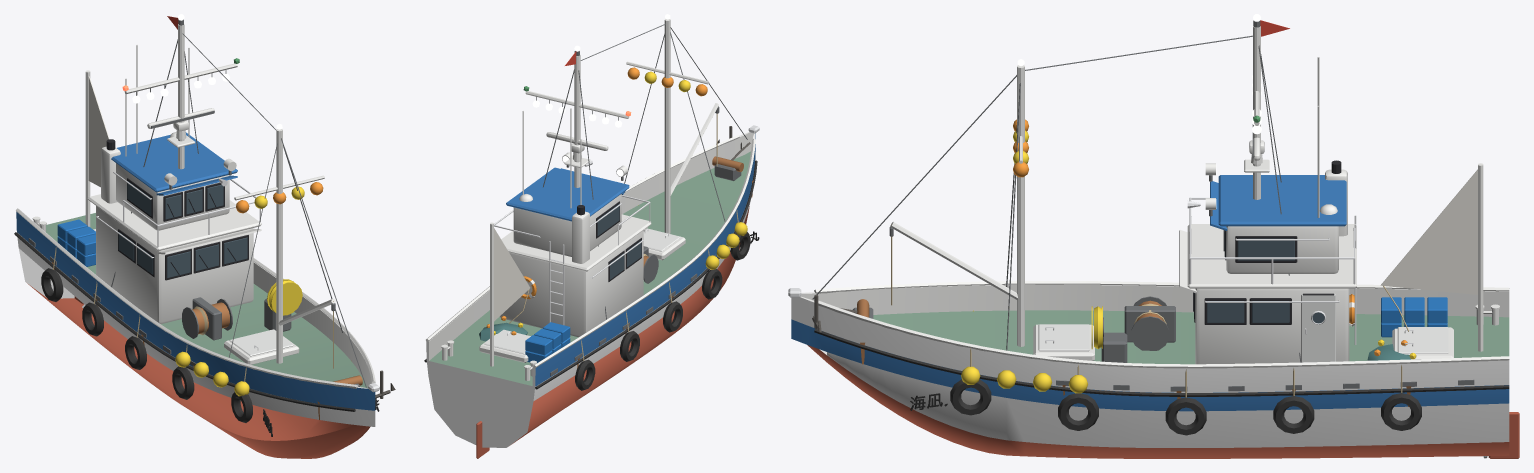
Rendered from fishing_boat.glb.
3 renders of one model, left to right at view 1: azimuth 30°, elevation 25°; view 2: azimuth 150°, elevation 25°; view 3: azimuth 270°, elevation 25°, orthographic. The views are drawn at different scales.
Parts seen in each view (by area): view 1: fishing_boat_body, fishing_boat_radar; view 2: fishing_boat_body, fishing_boat_radar; view 3: fishing_boat_body.
Part boxes in pixels (x1,y1,x2,y2): fishing_boat_body: (14,14,395,458); fishing_boat_radar: (147,108,214,131); fishing_boat_body: (424,14,759,458); fishing_boat_radar: (546,132,608,153); fishing_boat_body: (788,14,1519,458).
Bounding box in the file's own units: 4.27 × 9.56 × 14.26.
